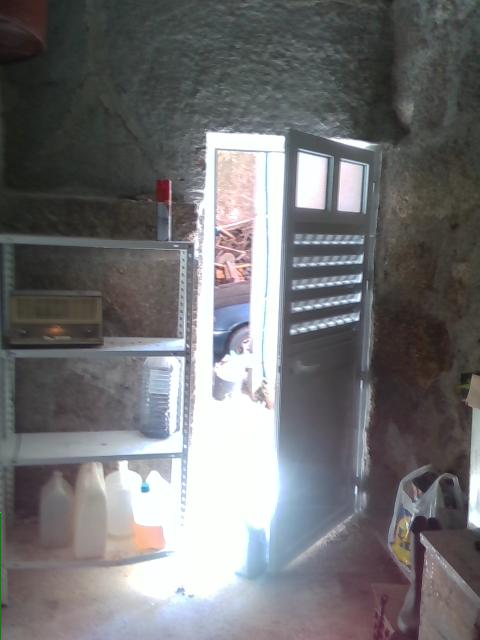semi_door: (185, 123, 384, 580)
